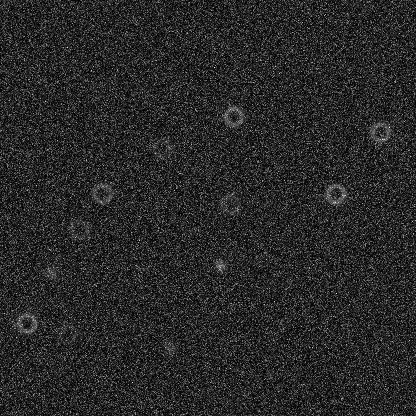Ring: (14, 310, 38, 334), (368, 119, 392, 143), (55, 321, 79, 345), (323, 181, 347, 205), (221, 104, 245, 128), (149, 136, 173, 160), (89, 181, 113, 205), (218, 191, 242, 215), (67, 216, 91, 240)
Spot: (43, 264, 59, 280), (212, 257, 228, 273), (161, 340, 177, 356), (136, 85, 152, 101)
